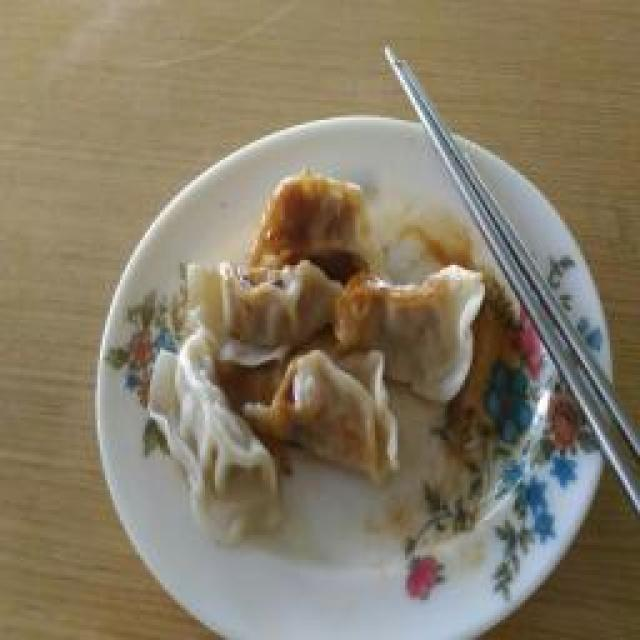Wet Waste: (140, 160, 488, 550)
